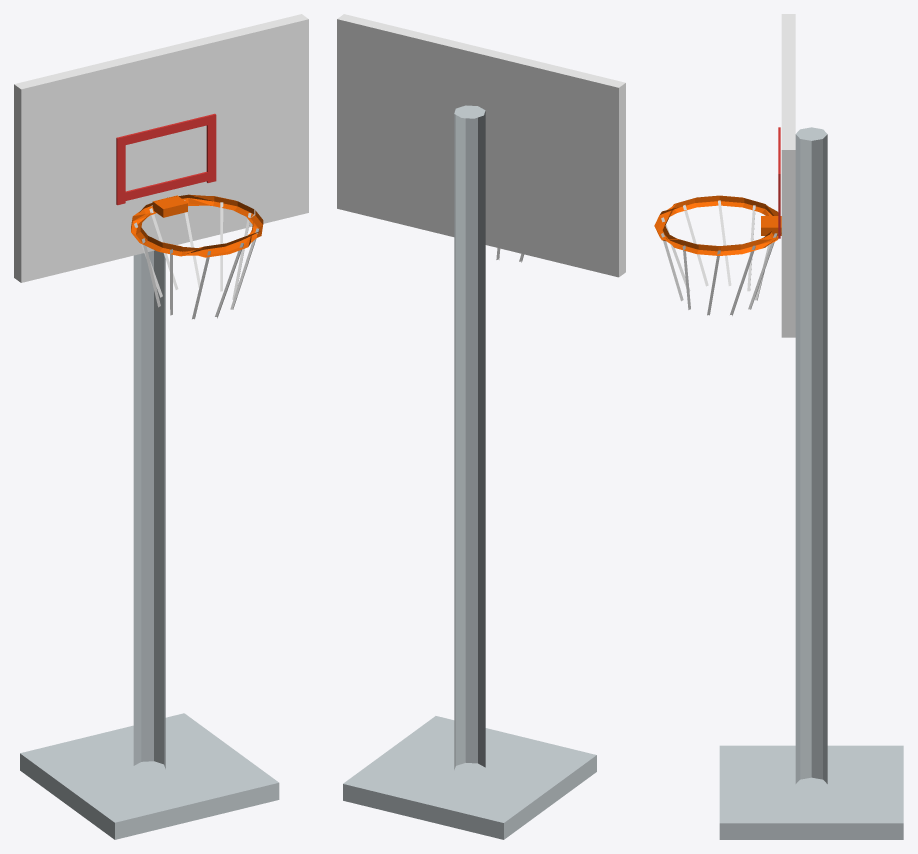
File: basketkorg.glb
3 views of the same model, side by side, from view 1: azimuth 30°, elevation 25°; view 2: azimuth 150°, elevation 25°; view 3: azimuth 270°, elevation 25° (orthographic). The views are drawn at different scales.
Visible parts, largest first — view 1: basketkorg; view 2: basketkorg; view 3: basketkorg.
Boxes of the visible parts, x1,y1,x2,y2 form: basketkorg: (14, 14, 308, 839); basketkorg: (337, 14, 625, 839); basketkorg: (654, 14, 903, 839).
Size of the model in its own units: 0.7 by 1.73 by 0.5421.
